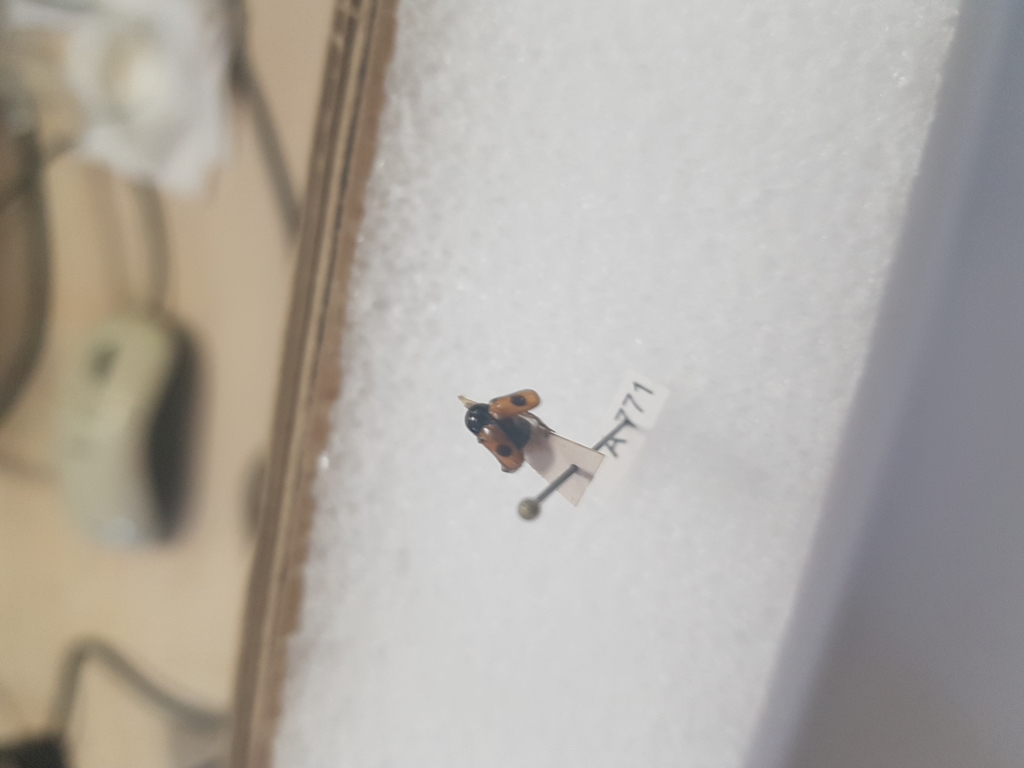Cryptocephalus_bipunctatus: (452, 386, 547, 476)
